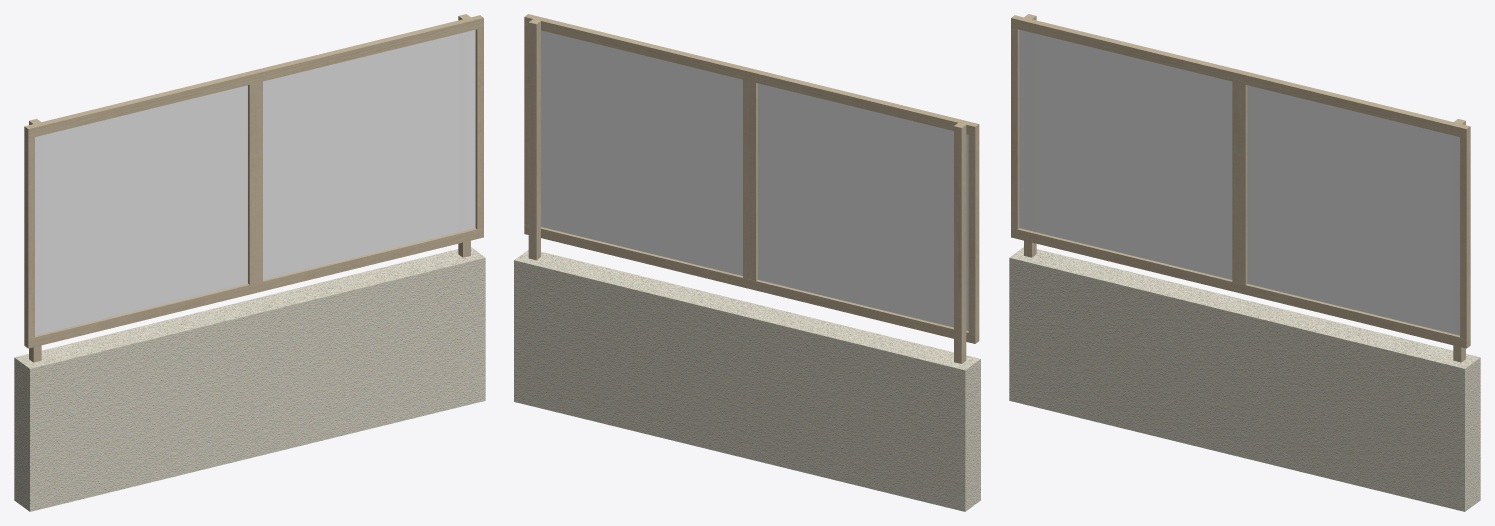
The model's file is EAFpolycadesign_w1998-h920_block_springoak.fbx.
3 views of the same model, side by side, from view 1: azimuth 30°, elevation 25°; view 2: azimuth 150°, elevation 25°; view 3: azimuth 330°, elevation 25° (orthographic).
Parts seen in each view (by area): view 1: EAFpolycadesign_w1998-h920_block_springoak; view 2: EAFpolycadesign_w1998-h920_block_springoak; view 3: EAFpolycadesign_w1998-h920_block_springoak.
Part boxes in pixels (bbox=[...]): EAFpolycadesign_w1998-h920_block_springoak: bbox=[14, 14, 485, 511]; EAFpolycadesign_w1998-h920_block_springoak: bbox=[514, 14, 980, 511]; EAFpolycadesign_w1998-h920_block_springoak: bbox=[1009, 14, 1480, 511].
Bounding box in the file's own units: 200 × 160 × 12.
4 materials, 3 textured.
